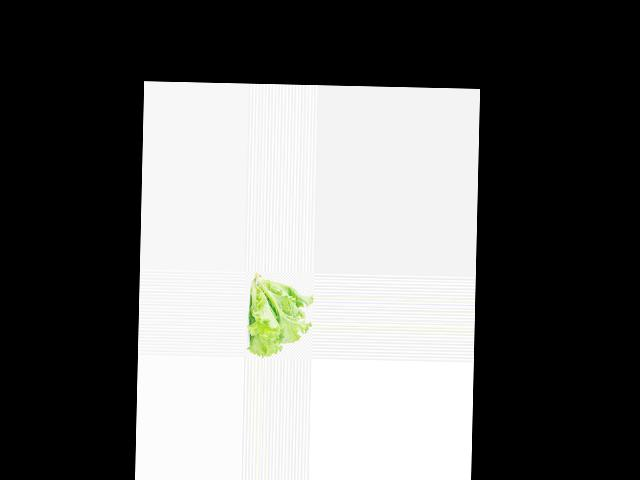lettuce: (249, 271, 313, 358)
